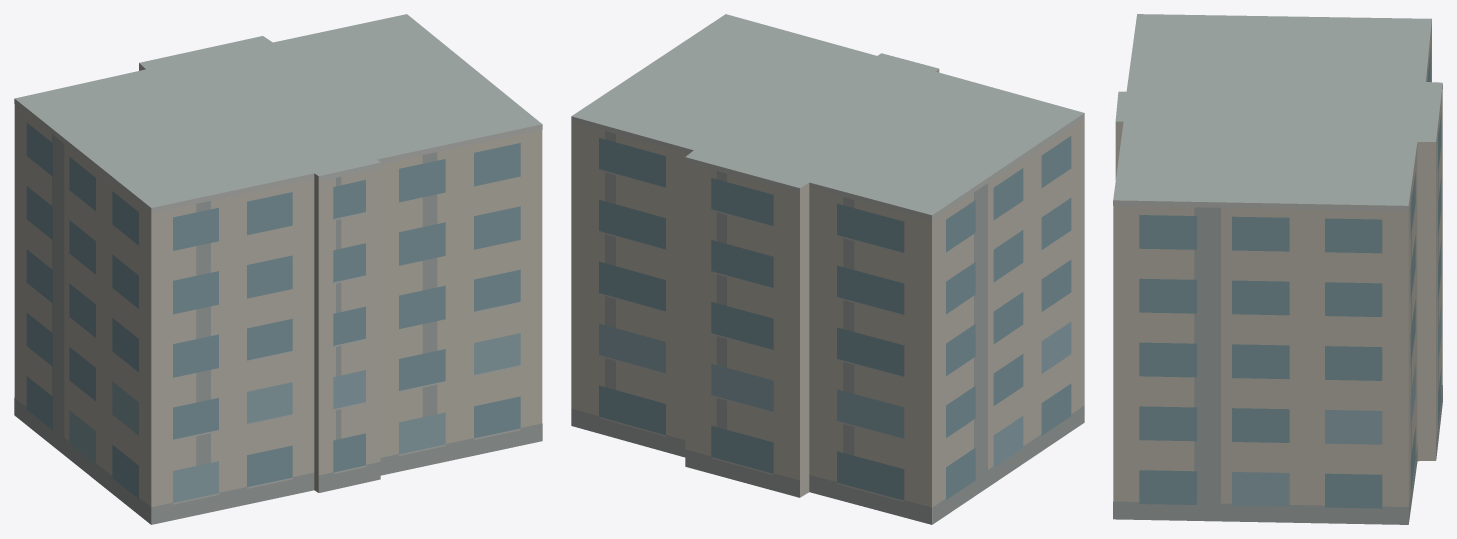
The model's file is survey-upis-32683777.glb.
3 renders of one model, left to right at view 1: azimuth 30°, elevation 25°; view 2: azimuth 150°, elevation 25°; view 3: azimuth 270°, elevation 25°, orthographic. The views are drawn at different scales.
Visible parts, largest first — view 1: survey-upis-32683777.tmp; view 2: survey-upis-32683777.tmp; view 3: survey-upis-32683777.tmp.
Part boxes in pixels (box(x1,y1,x2,y2)): survey-upis-32683777.tmp: box(14, 14, 542, 524); survey-upis-32683777.tmp: box(571, 14, 1084, 524); survey-upis-32683777.tmp: box(1113, 14, 1442, 524).
Bounding box in the file's own units: 18.46 × 14.3 × 13.4.
